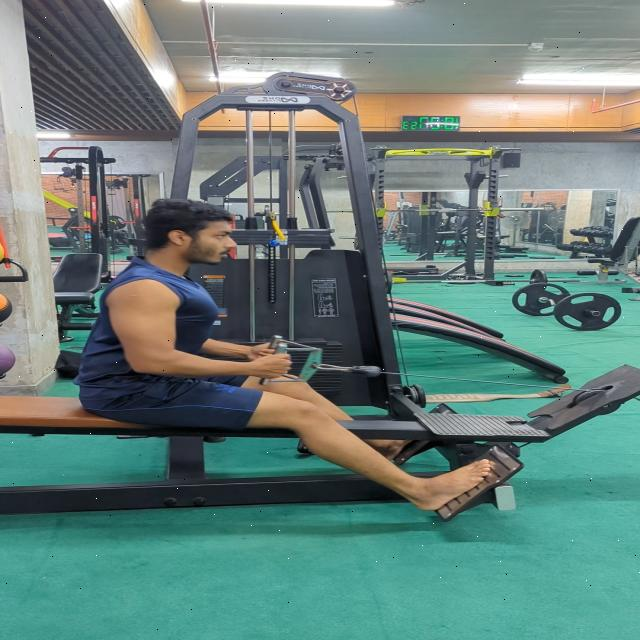Normal_RowingMachineExercise: (69, 198, 498, 513)
